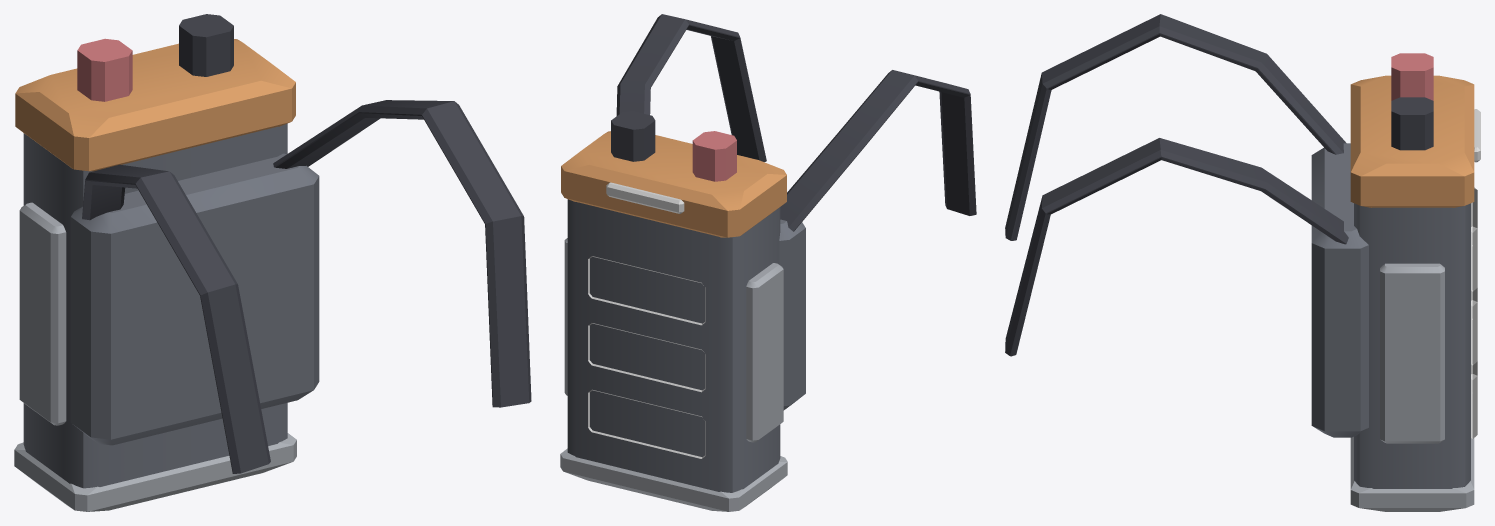
File: gear_pile.glb
The picture shows the model from 3 angles, left to right: view 1: azimuth 30°, elevation 25°; view 2: azimuth 150°, elevation 25°; view 3: azimuth 270°, elevation 25°; orthographic projection. The views are drawn at different scales.
Parts seen in each view (by area): view 1: torso__pile; view 2: torso__pile, torso__pile_glow; view 3: torso__pile, torso__pile_glow.
Part boxes in pixels (left/top/right/bottom): torso__pile: left=14, top=14, right=531, bottom=511; torso__pile: left=560, top=14, right=976, bottom=511; torso__pile_glow: left=588, top=182, right=705, bottom=458; torso__pile: left=1005, top=14, right=1474, bottom=511; torso__pile_glow: left=1471, top=109, right=1480, bottom=438.
Size of the model in its own units: 0.204 by 0.2615 by 0.2926.
